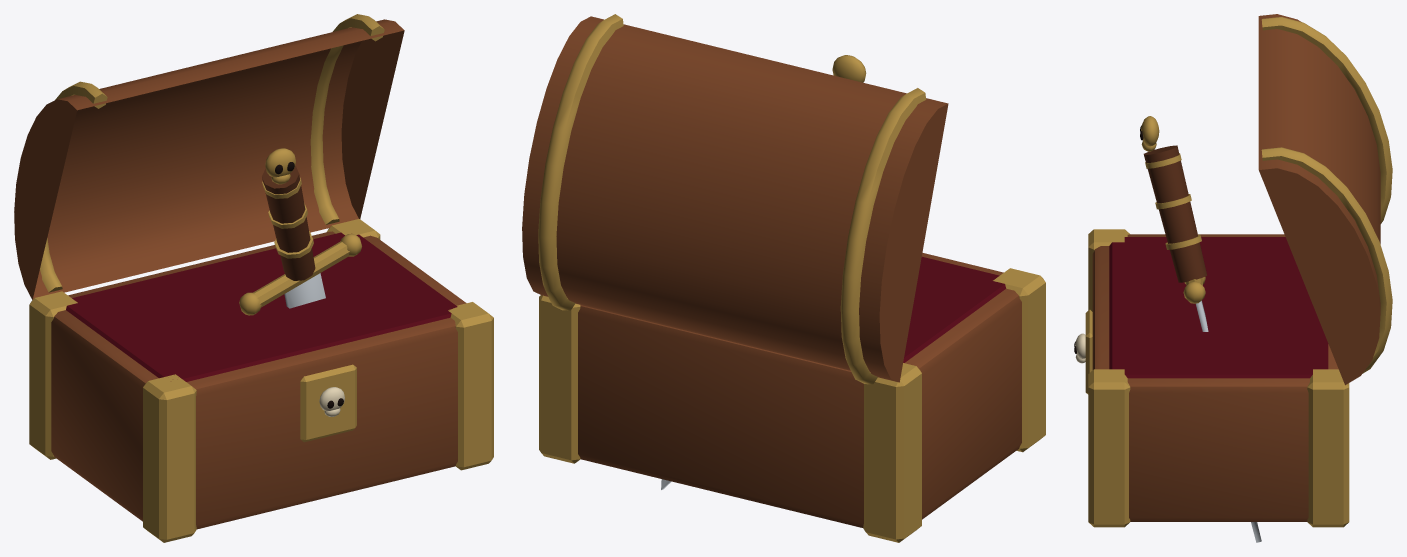
The model's file is PR_KnifeBox.fbx.
3 views of the same model, side by side, from view 1: azimuth 30°, elevation 25°; view 2: azimuth 150°, elevation 25°; view 3: azimuth 270°, elevation 25° (orthographic). The views are drawn at different scales.
Visible parts, largest first — view 1: Lid_Wood, PR_KnifeBox_Wood, PR_KnifeBox_VelvetDark, PR_KnifeBox_Brass, Lid_Brass, Knife_Brass, Knife_WoodDark, Knife_Steel; view 2: Lid_Wood, PR_KnifeBox_Wood, PR_KnifeBox_Brass, Lid_Brass, PR_KnifeBox_VelvetDark, Knife_Brass; view 3: PR_KnifeBox_Wood, Lid_Wood, PR_KnifeBox_VelvetDark, PR_KnifeBox_Brass, Lid_Brass, Knife_WoodDark, Knife_Brass.
Part boxes in pixels (x1,y1,x2,y2): Lid_Wood: [14, 19, 404, 299]; PR_KnifeBox_Wood: [51, 231, 466, 529]; PR_KnifeBox_VelvetDark: [66, 232, 457, 381]; PR_KnifeBox_Brass: [29, 219, 493, 542]; Lid_Brass: [40, 14, 384, 292]; Knife_Brass: [239, 148, 361, 315]; Knife_WoodDark: [262, 166, 315, 280]; Knife_Steel: [284, 273, 325, 308]; Lid_Wood: [522, 16, 948, 382]; PR_KnifeBox_Wood: [578, 252, 1021, 527]; PR_KnifeBox_Brass: [539, 268, 1045, 542]; Lid_Brass: [538, 14, 926, 384]; PR_KnifeBox_VelvetDark: [903, 256, 1005, 362]; Knife_Brass: [832, 55, 866, 82]; PR_KnifeBox_Wood: [1092, 234, 1338, 521]; Lid_Wood: [1258, 14, 1380, 385]; PR_KnifeBox_VelvetDark: [1109, 237, 1328, 378]; PR_KnifeBox_Brass: [1085, 229, 1349, 527]; Lid_Brass: [1261, 17, 1392, 373]; Knife_WoodDark: [1143, 145, 1207, 282]; Knife_Brass: [1141, 116, 1205, 303].
Size of the model in its own units: 0.266 by 0.3257 by 0.2269.
